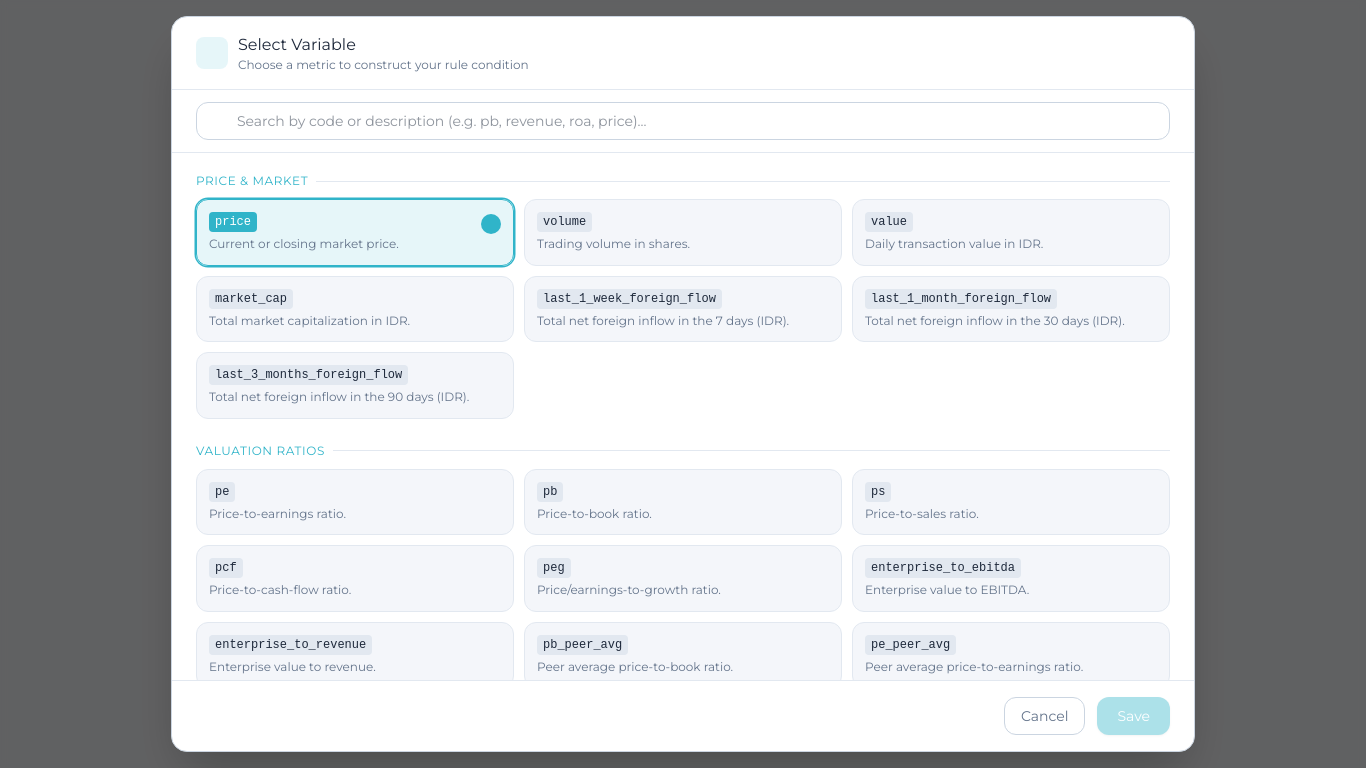
Test: VariablePickerModal › filters variables when searching
Type "operating_pnl" into the field with placeholder "Search by code or description". click: (683,121)
box: [196,102,1170,140]
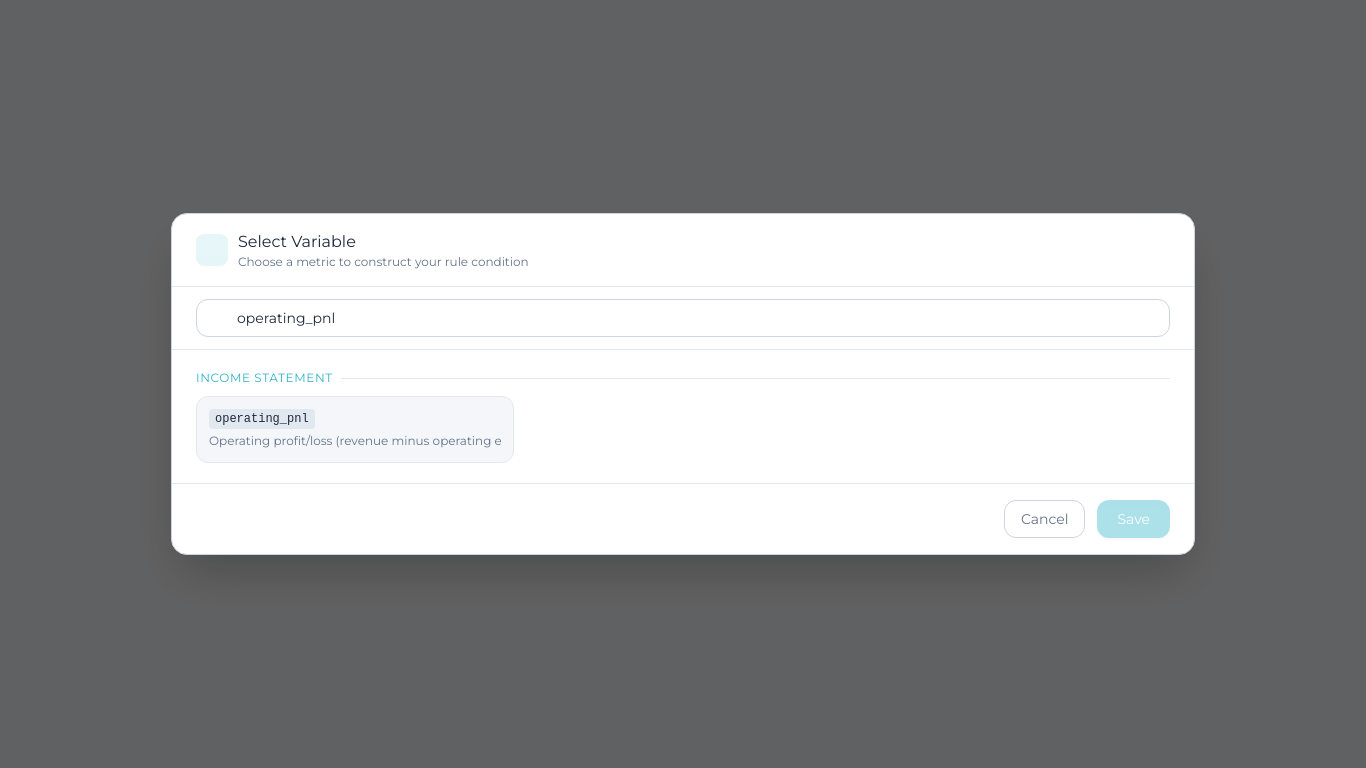
Now the text "Operating profit/loss" is shown, box [209,433,597,448]
Now the heading "Price & Market" is gone
